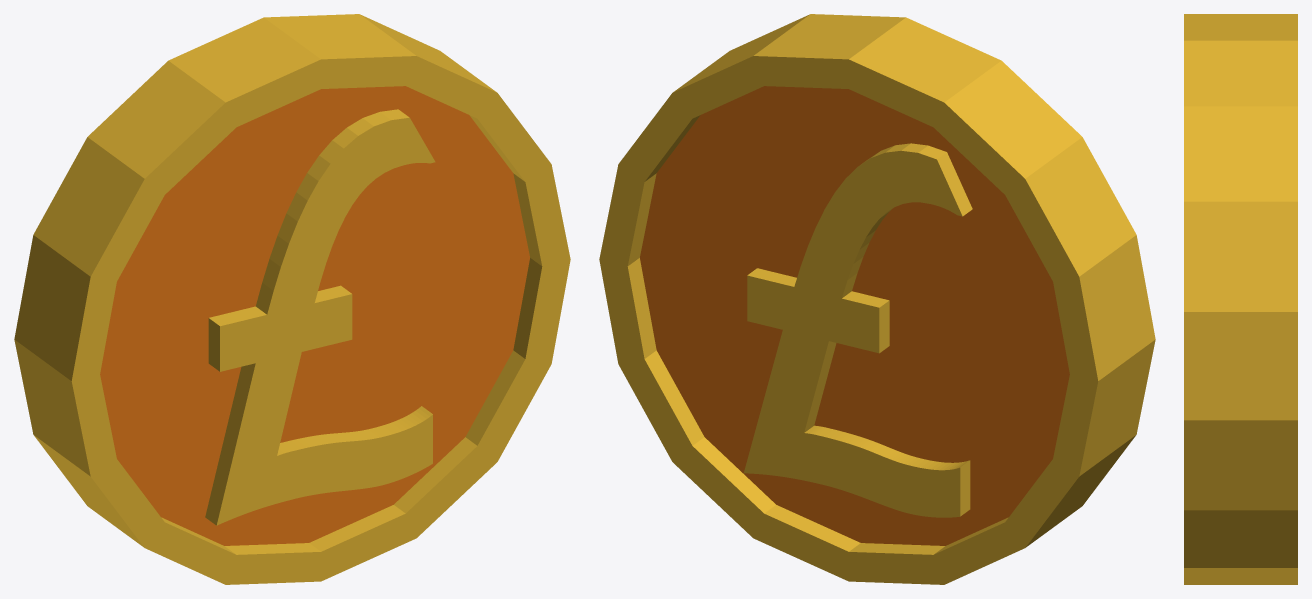
File: Pound.fbx
The picture shows the model from 3 angles, left to right: view 1: azimuth 30°, elevation 25°; view 2: azimuth 150°, elevation 25°; view 3: azimuth 270°, elevation 25°; orthographic projection.
Parts seen in each view (by area): view 1: Pound; view 2: Pound; view 3: Pound.
Part boxes in pixels (<box>): Pound: <box>14,14,570,584</box>; Pound: <box>599,14,1155,584</box>; Pound: <box>1184,14,1297,584</box>.
Size of the model in its own units: 84.1 by 84.1 by 16.74.
